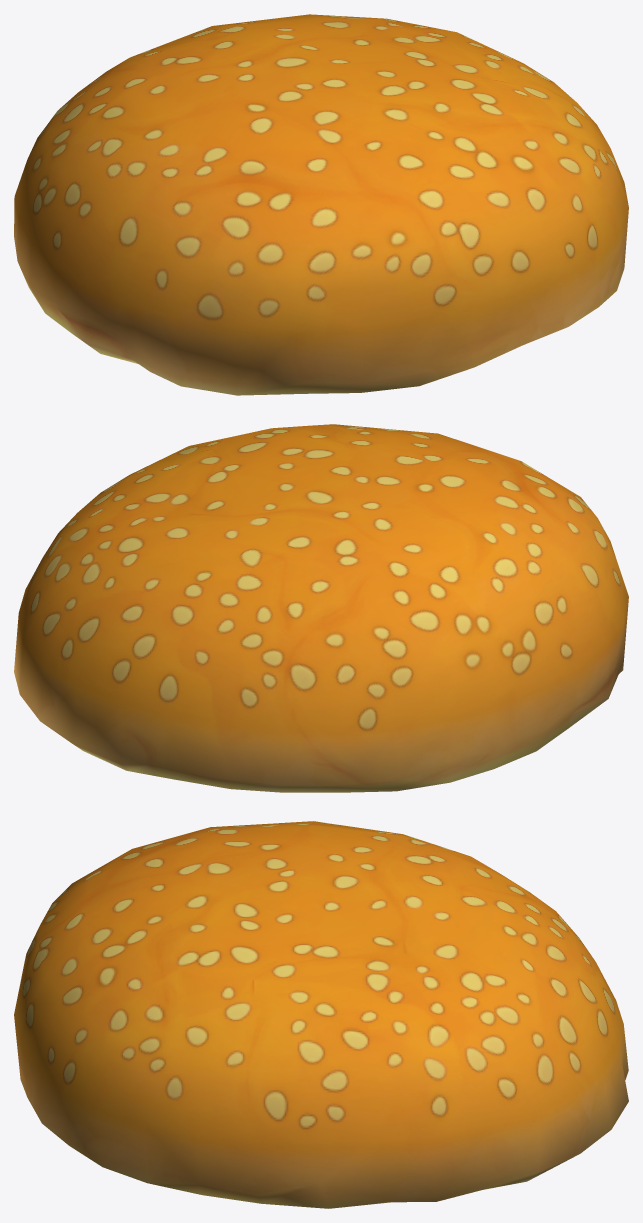
File: SM_BurgerBunUntoastedTopSeeds.glb
The picture shows the model from 3 angles, top to bottom: view 1: azimuth 30°, elevation 25°; view 2: azimuth 150°, elevation 25°; view 3: azimuth 270°, elevation 25°; orthographic projection. The views are drawn at different scales.
Visible parts, largest first — view 1: SM_BurgerBunUntoastedTopSeeds; view 2: SM_BurgerBunUntoastedTopSeeds; view 3: SM_BurgerBunUntoastedTopSeeds.
Part boxes in pixels (box(x1,y1,x2,y2)): SM_BurgerBunUntoastedTopSeeds: box(14, 14, 628, 395); SM_BurgerBunUntoastedTopSeeds: box(14, 424, 628, 792); SM_BurgerBunUntoastedTopSeeds: box(14, 821, 628, 1208).
Size of the model in its own units: 0.1859 by 0.0673 by 0.1859.
1 material, 1 textured.
